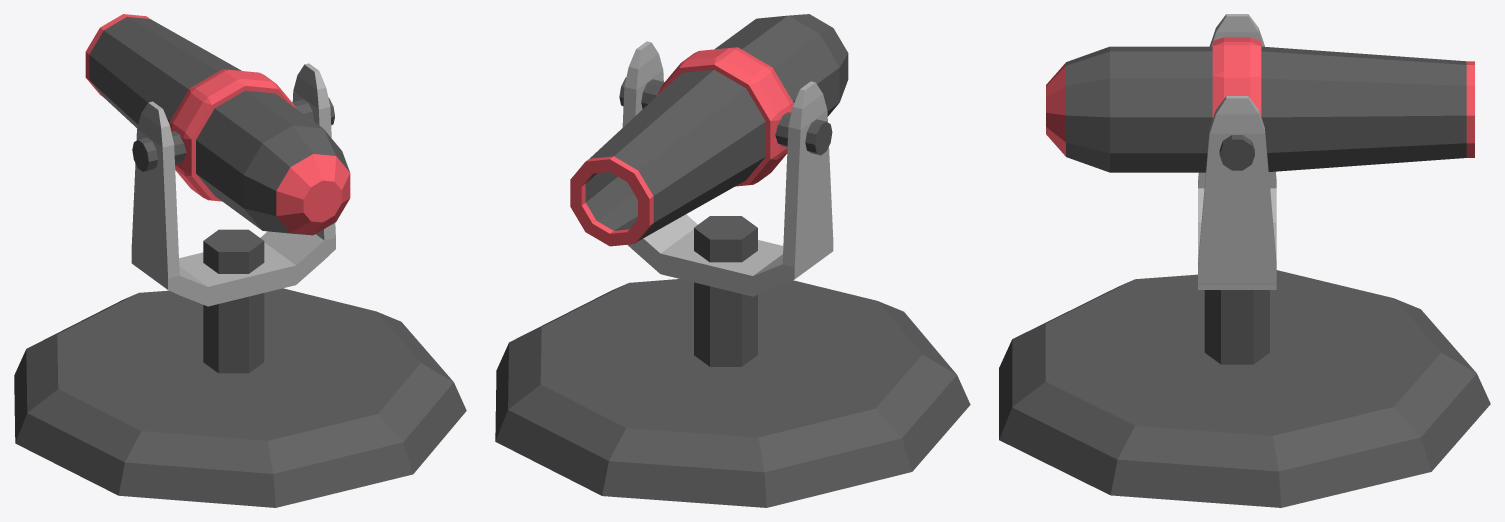
File: Canon Tower.fbx
The picture shows the model from 3 angles, left to right: view 1: azimuth 30°, elevation 25°; view 2: azimuth 150°, elevation 25°; view 3: azimuth 270°, elevation 25°; orthographic projection. The views are drawn at different scales.
Visible parts, largest first — view 1: Tower Base, Canon, Stand, Base Pillar, Canon Pillar; view 2: Tower Base, Canon, Stand, Base Pillar, Canon Pillar; view 3: Tower Base, Canon, Stand, Base Pillar, Canon Pillar.
Boxes of the visible parts, x1=… form: Tower Base: x1=14, y1=288, x2=466, y2=507; Canon: x1=85, y1=14, x2=350, y2=235; Stand: x1=131, y1=63, x2=335, y2=306; Base Pillar: x1=203, y1=229, x2=264, y2=373; Canon Pillar: x1=132, y1=97, x2=334, y2=171; Tower Base: x1=495, y1=279, x2=970, y2=507; Canon: x1=570, y1=14, x2=848, y2=246; Stand: x1=622, y1=41, x2=833, y2=296; Base Pillar: x1=694, y1=216, x2=757, y2=366; Canon Pillar: x1=619, y1=77, x2=832, y2=155; Tower Base: x1=999, y1=270, x2=1490, y2=507; Canon: x1=1046, y1=37, x2=1474, y2=172; Stand: x1=1198, y1=14, x2=1276, y2=289; Base Pillar: x1=1204, y1=290, x2=1269, y2=364; Canon Pillar: x1=1219, y1=135, x2=1254, y2=170.
Bounding box in the file's own units: 1.85 × 1.85 × 1.5.
